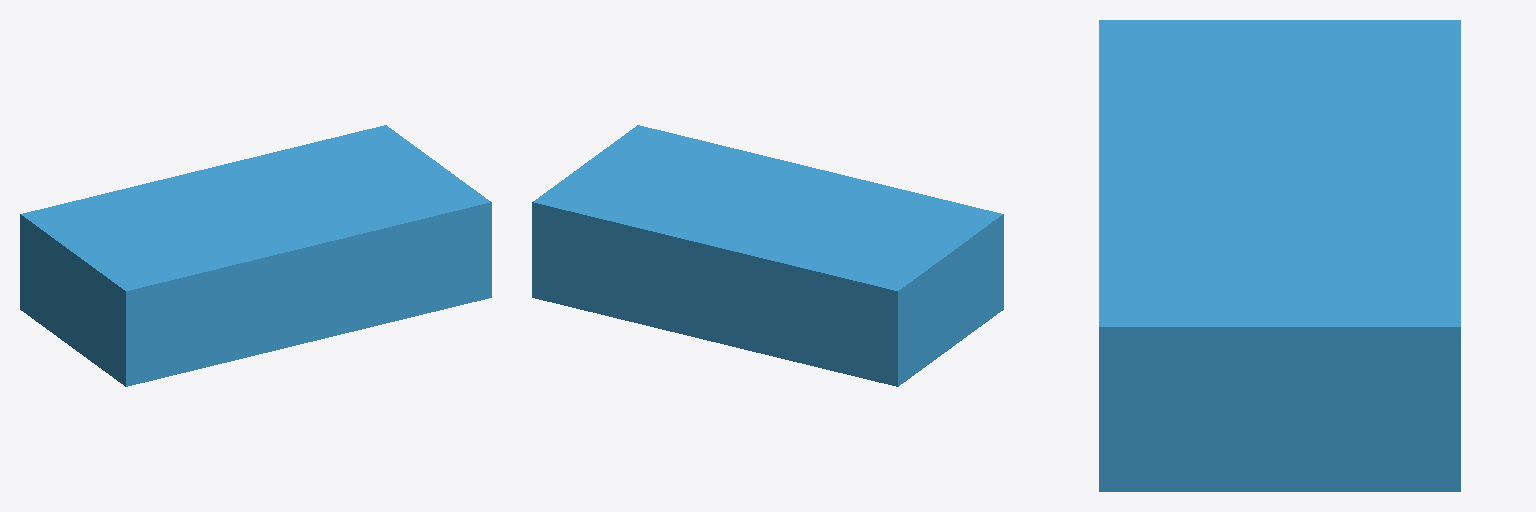
robot.urdf — pick_place:
<?xml version='1.0'?>

<robot name="pick_place" xmlns:xacro="http://www.ros.org/wiki/xacro">

  <!-- Robot footprint -->
  <link name="base_footprint"></link>

    <!-- Include the base_link-->
<link name='base_link'>
    <pose>0 0 0.1 0 0 0</pose>

    <inertial>
      <mass value="15.0"/>
      <origin xyz="0.0 0 0" rpy=" 0 0 0"/>
        <inertia
            ixx="0.0625" ixy="0" ixz="0"
            iyy="0.2125" iyz="0"
            izz="0.25"
        />
    </inertial>

    <collision name='collision'>
      <origin xyz="0 0 0" rpy=" 0 0 0"/> 
        <geometry>
          <box size="0.4 0.2 0.1"/>
        </geometry>
    </collision>

    <visual name='base_link_visual'>
      <origin xyz="0 0 0" rpy=" 0 0 0"/>
      <geometry>
        <box size="0.4 0.2 0.1"/>
      </geometry>
    </visual>
  </link>

    <joint name="base_to_arm" type="fixed">
      <parent link="base_footprint"/>
      <child link="base_link"/>
      <origin xyz="0 0 0.05" rpy="0 0 0"/>
    </joint>


</robot>

--- Render facts (derived) ---
3 views of the same robot in one strip: view 1: azimuth 30°, elevation 25°; view 2: azimuth 150°, elevation 25°; view 3: azimuth 270°, elevation 25° (orthographic).
Model pick_place with 2 links and 1 joints (1 fixed), rooted at base_footprint, posed every joint at zero.
Visible links, largest first — view 1: base_link; view 2: base_link; view 3: base_link.
Boxes of the visible links, x1,y1,x2,y2 form: base_link: (20, 125, 491, 386); base_link: (532, 125, 1003, 386); base_link: (1099, 20, 1460, 491).
Size in the robot's own frame: 0.4 by 0.2 by 0.1 metres.
Geometry: primitives only (box / cylinder / sphere), no mesh files.